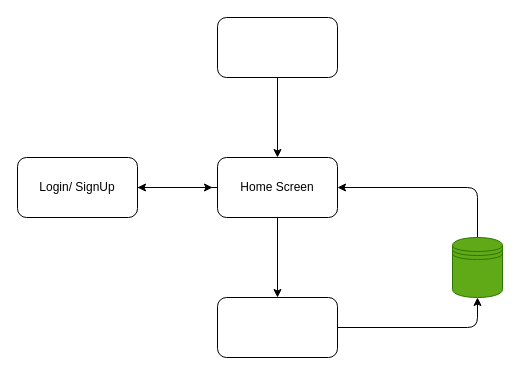
Image size: 520x375. Some labels were removed from this diagram. Here are the shapes that lost their labels. From the top down, the box of each, then its label:
(216, 16, 338, 78): User
(216, 296, 338, 358): autocomplete
